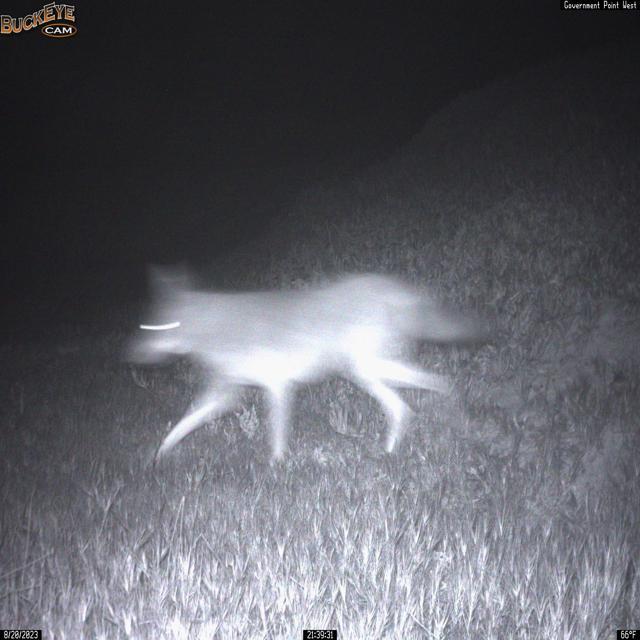coyote: (120, 258, 494, 475)
